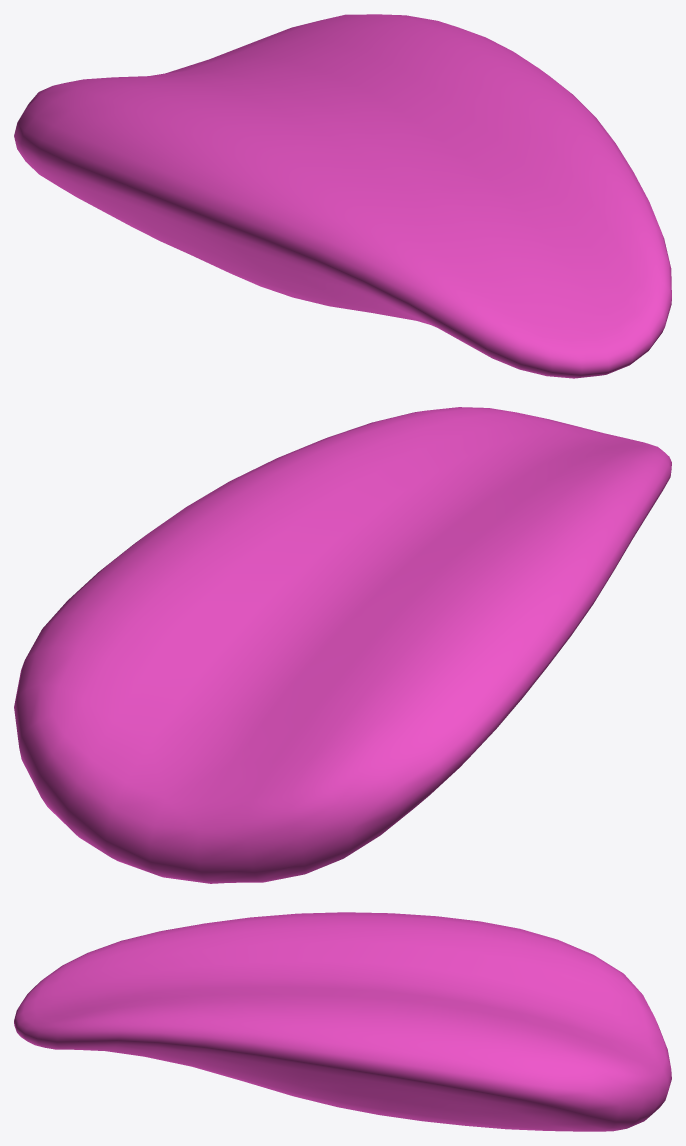
File: lengua.fbx
3 renders of one model, top to bottom at view 1: azimuth 30°, elevation 25°; view 2: azimuth 150°, elevation 25°; view 3: azimuth 270°, elevation 25°, orthographic. The views are drawn at different scales.
Parts seen in each view (by area): view 1: <SMD_root>; view 2: <SMD_root>; view 3: <SMD_root>.
Boxes of the visible parts, x1,y1,x2,y2 form: <SMD_root>: [14, 14, 671, 378]; <SMD_root>: [14, 407, 671, 883]; <SMD_root>: [14, 912, 671, 1131].
Size of the model in its own units: 149 by 66.52 by 271.
